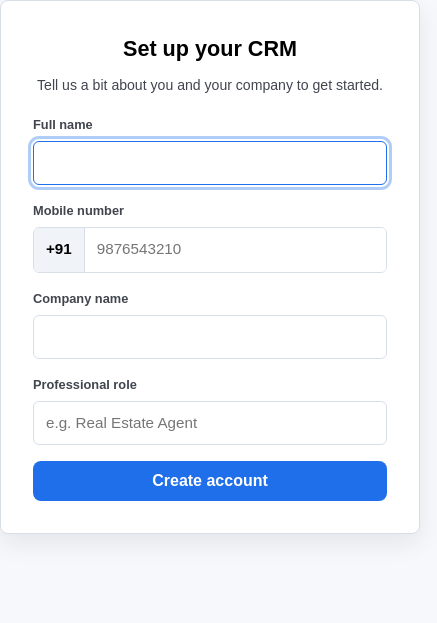
OnboardingFormClient › blocks submission and shows every problem when fields are invalid
The width and height of the screenshot is (437, 623).
In the field labelled "Full name": (210,163) [33,141,387,185], type "Ravi123"
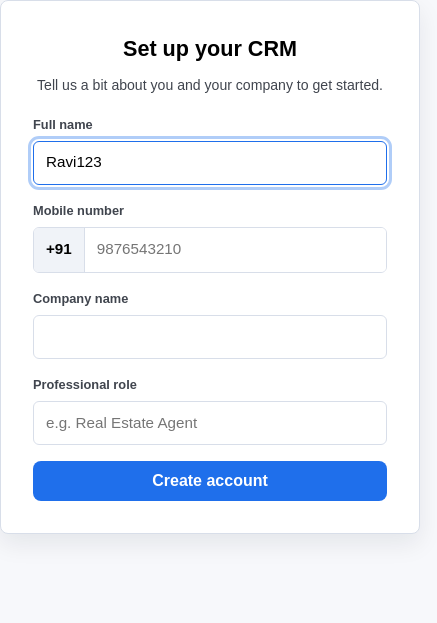
In the field labelled "Mobile number": (235,250) [85,228,386,272], type "98765"
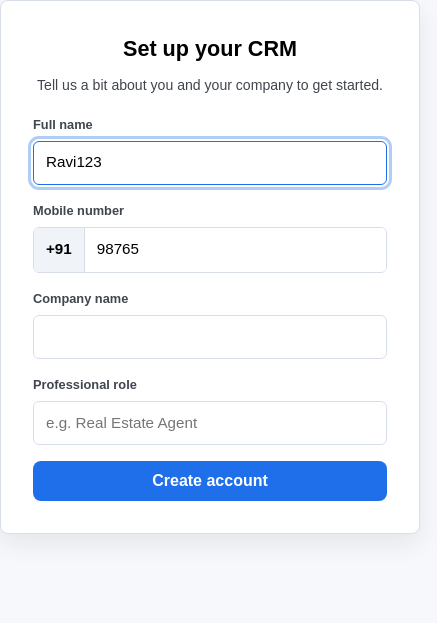
In the field labelled "Company name": (210,337) [33,315,387,359], type "BRIQ Aastha"
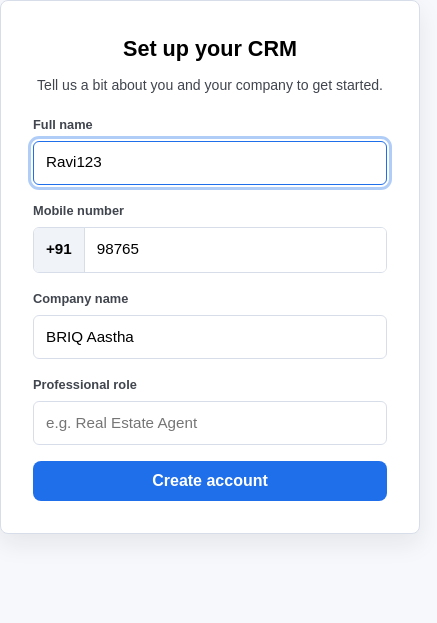
In the field labelled "Professional role": (210,423) [33,401,387,445], type "Real Estate Agent"
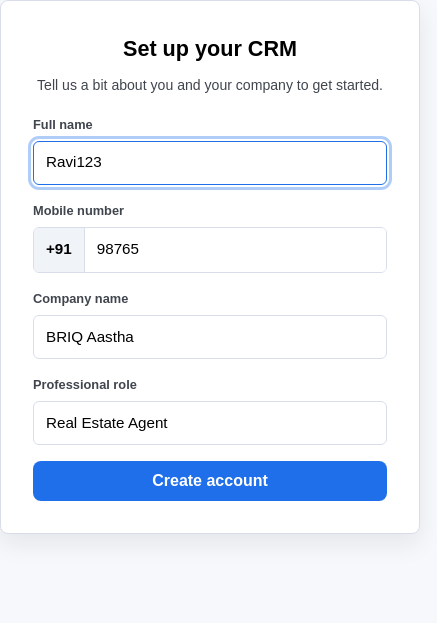
Click the button "Create account": (210,481) [33,461,387,501]
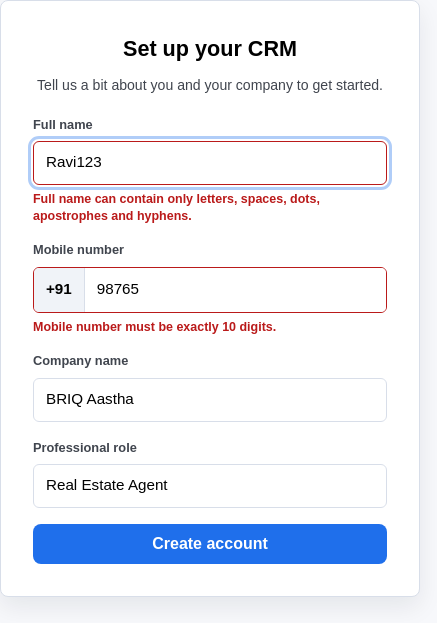
expect the text "Full name can contain only letters, spaces, dots, apostrophes and hyphens." is shown: met, box [33,192,320,222]
expect the text "Mobile number must be exactly 10 digits." is shown: met, box [33,320,276,334]
